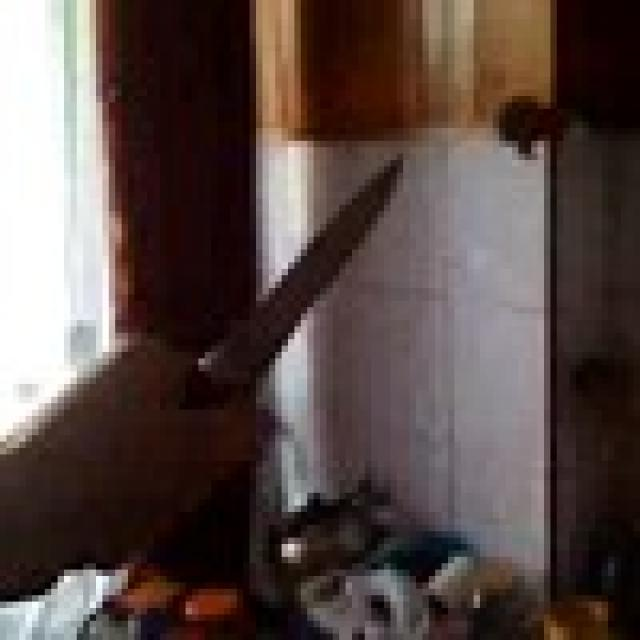Knife: (224, 147, 416, 442)
